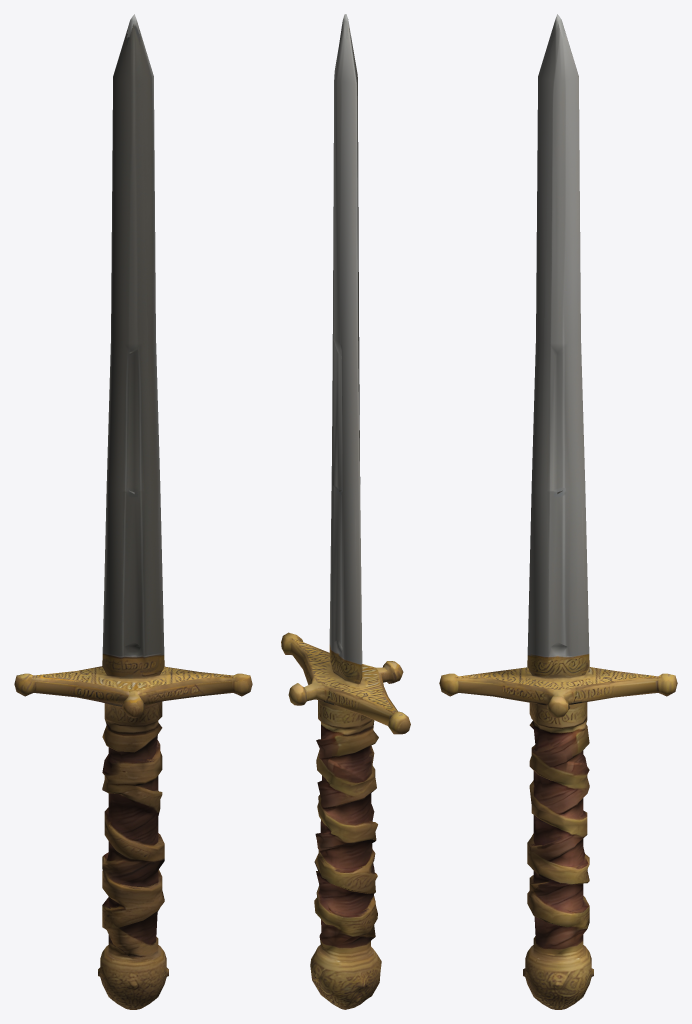
Rendered from blade.glb.
3 views of the same model, side by side, from view 1: azimuth 90°, elevation 25°; view 2: azimuth 210°, elevation 25°; view 3: azimuth 270°, elevation 25° (orthographic).
Parts seen in each view (by area): view 1: base_model_path; view 2: base_model_path; view 3: base_model_path.
Part boxes in pixels (x1,y1,x2,y2): base_model_path: [14, 14, 252, 1009]; base_model_path: [281, 14, 410, 1009]; base_model_path: [439, 14, 677, 1009].
Bounding box in the file's own units: 0.1153 × 0.9988 × 0.217.
Materials: 1 (1 with a texture image).
